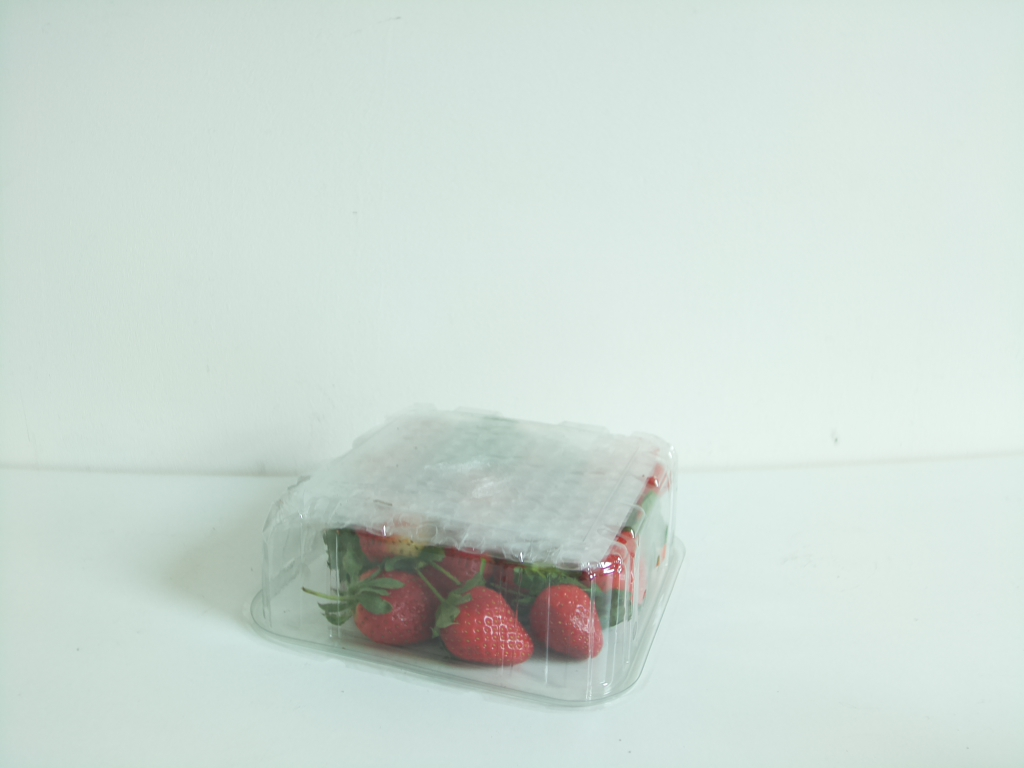soft-fruit: (242, 401, 691, 710)
